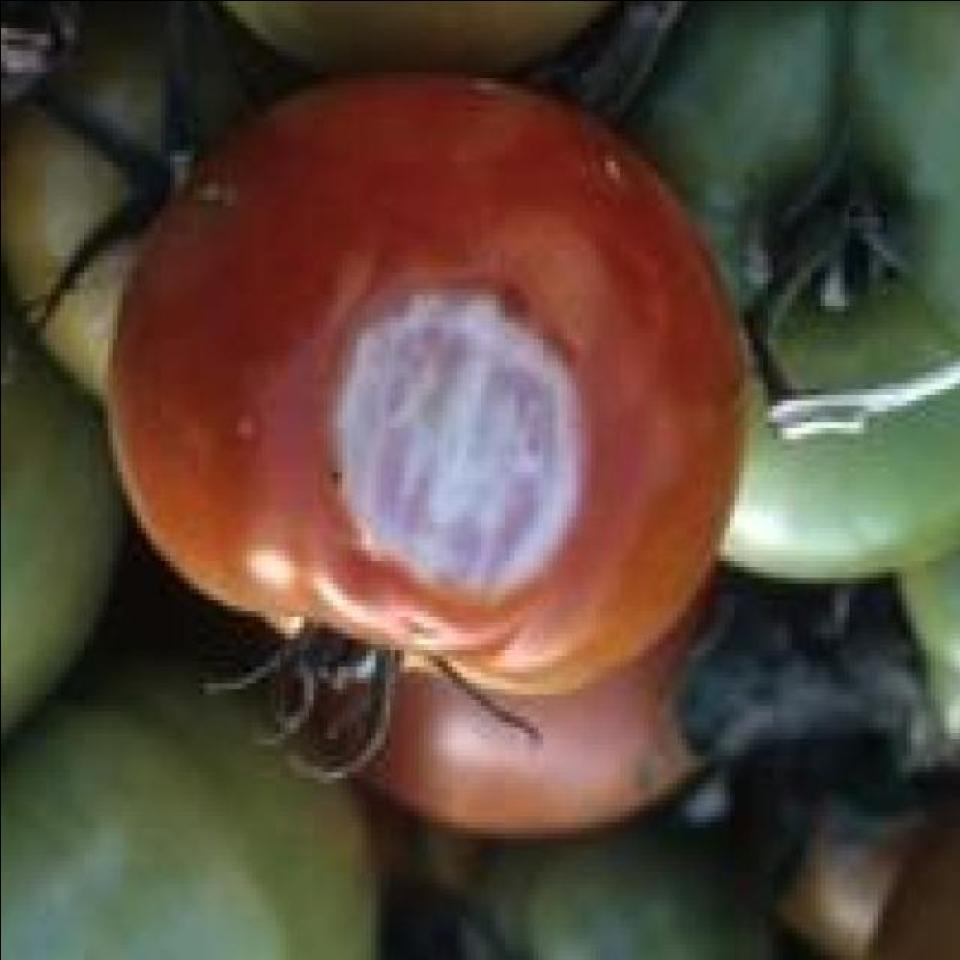Sunscald: (332, 277, 590, 617)
